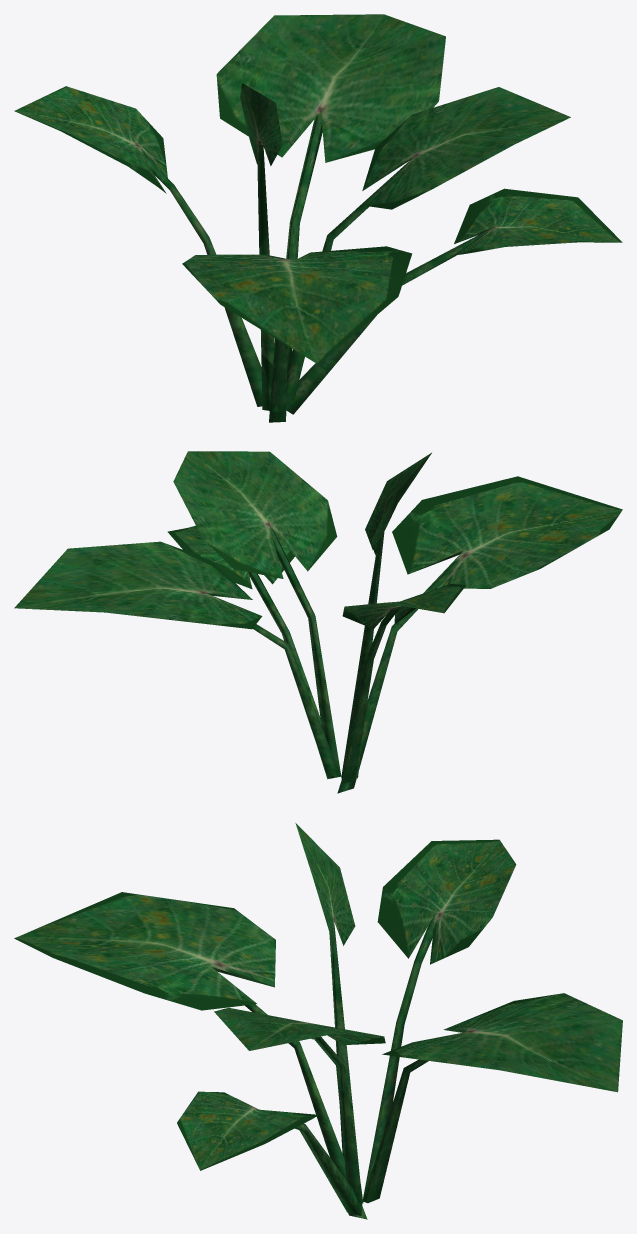
File: leaf_giantpalm_lrg_l2.fbx
The picture shows the model from 3 angles, top to bottom: view 1: azimuth 30°, elevation 25°; view 2: azimuth 150°, elevation 25°; view 3: azimuth 270°, elevation 25°; orthographic projection. The views are drawn at different scales.
Visible parts, largest first — view 1: mesh_node; view 2: mesh_node; view 3: mesh_node.
Part boxes in pixels (x1=…): mesh_node: x1=14, y1=14, x2=622, y2=422; mesh_node: x1=14, y1=451, x2=622, y2=793; mesh_node: x1=14, y1=823, x2=622, y2=1219.
Bounding box in the file's own units: 4.38 × 3.53 × 5.36.
